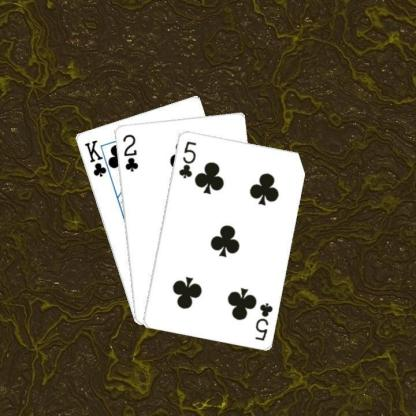2C: (120, 131, 139, 173)
5C: (252, 300, 274, 341), (176, 138, 197, 179)
KC: (82, 137, 112, 179)
